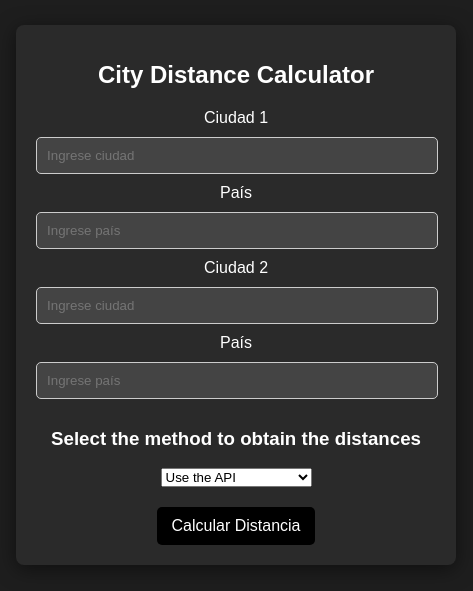
Test: App Component - Distance Calculation › calculates zero distance when same city is entered twice
Select "Use the API" in the dropdown. click: (236,478)
box: [160,468,312,487]
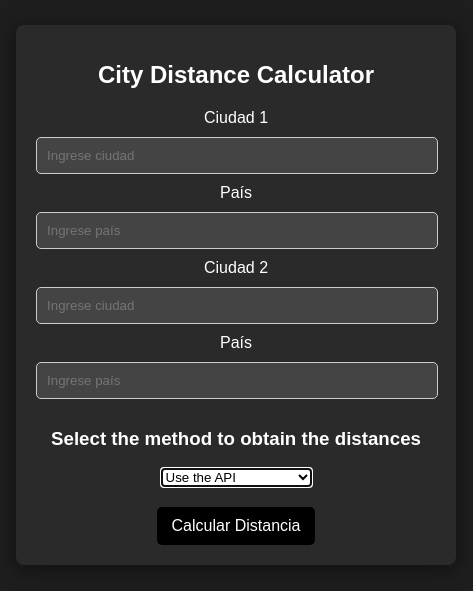
Type "Lima" into the field with test id "ciudad1-city". click: (237,155)
box: [36,137,438,174]
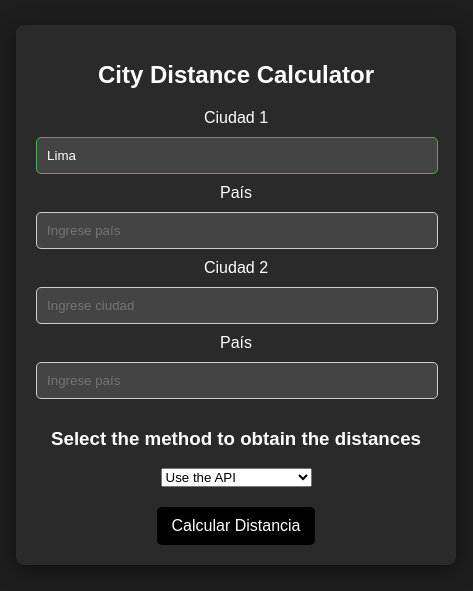
Type "Peru" into the field with test id "ciudad1-country". click: (237,230)
box: [36,212,438,249]
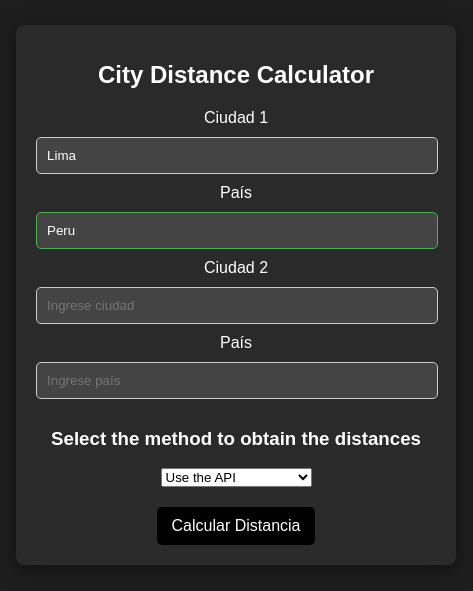
Type "Lima" into the field with test id "ciudad2-city". click: (237,305)
box: [36,287,438,324]
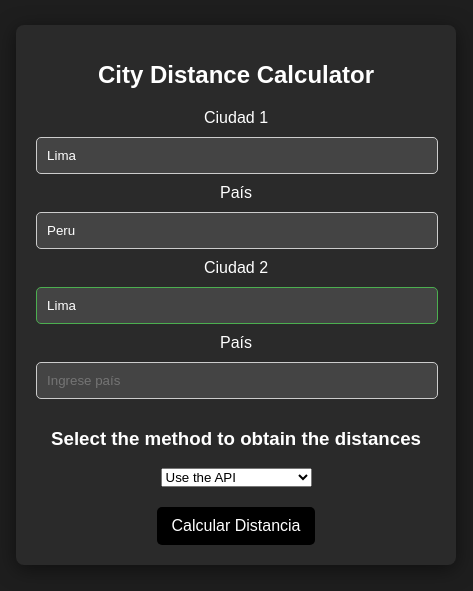
Type "Peru" into the field with test id "ciudad2-country". click: (237,380)
box: [36,362,438,399]
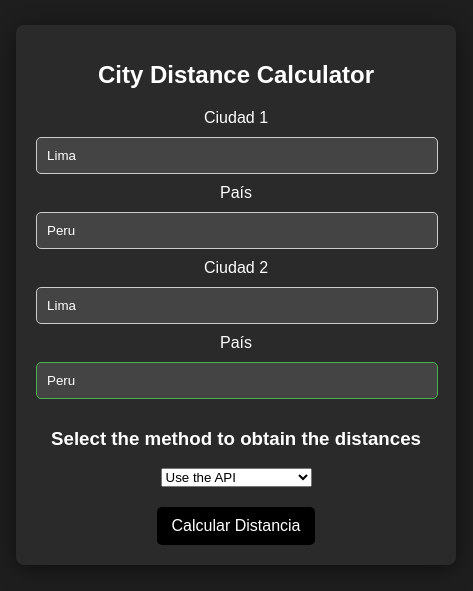
Click the button "Calcular Distancia". click: (236,526)
box: [156,507,315,545]
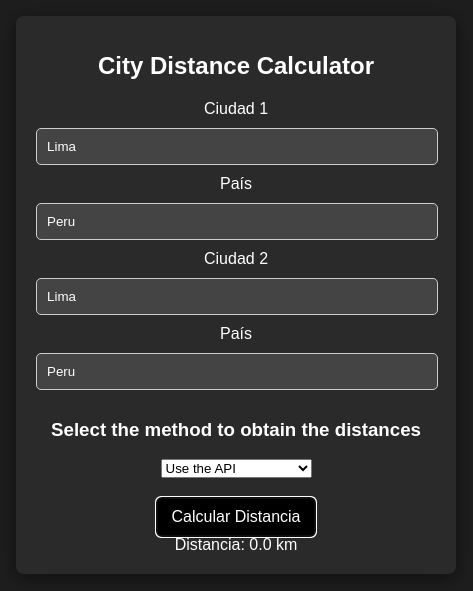
Check: the text with test id "distance-result" shows "0", box [249,536,272,553]
